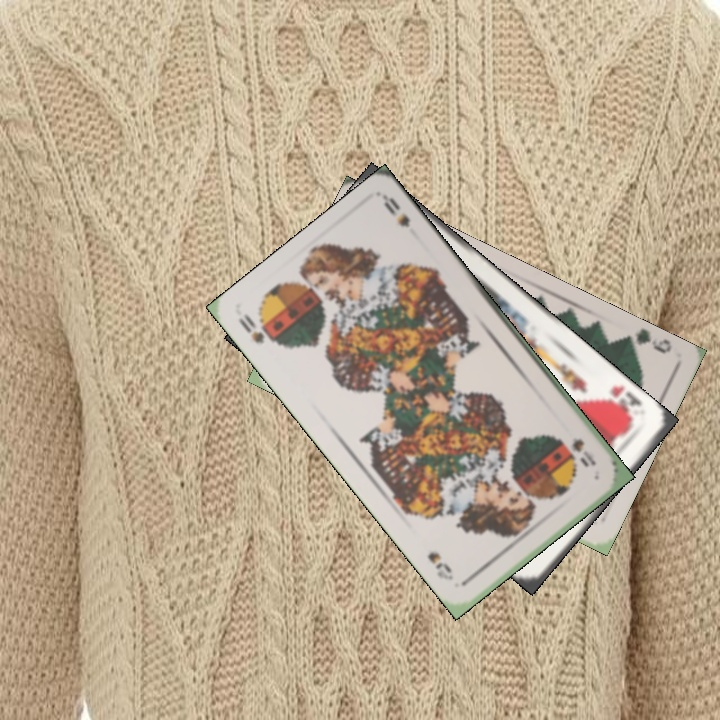G9: (617, 326, 675, 357)
HK: (599, 381, 645, 425)
SO: (234, 309, 267, 347), (568, 434, 599, 471)
